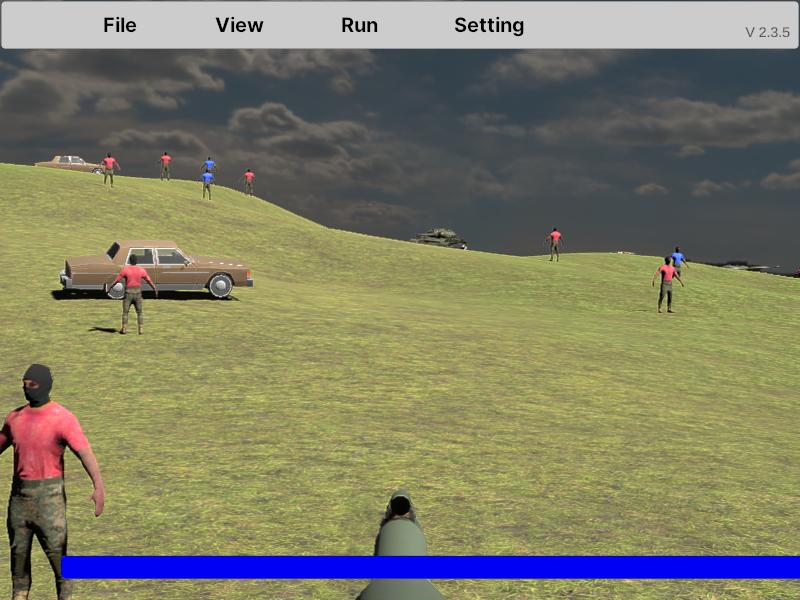Human: (0, 360, 106, 600), (112, 254, 157, 334), (652, 255, 684, 314)
car: (61, 241, 255, 302)
